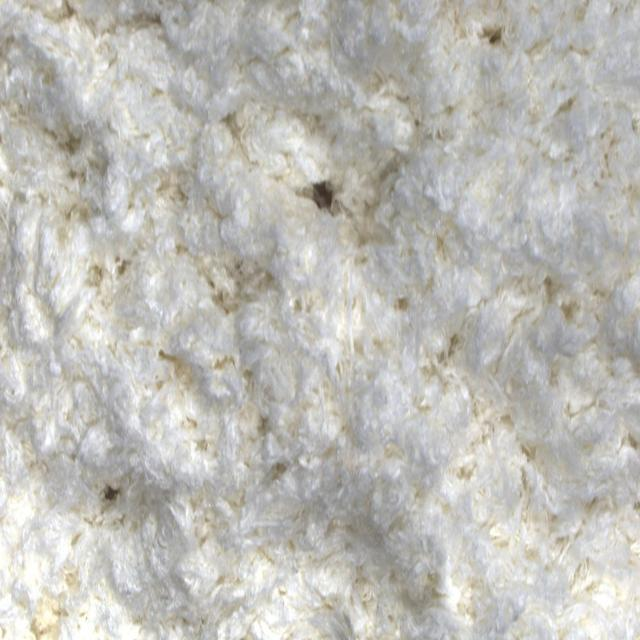dust: (295, 168, 340, 222)
